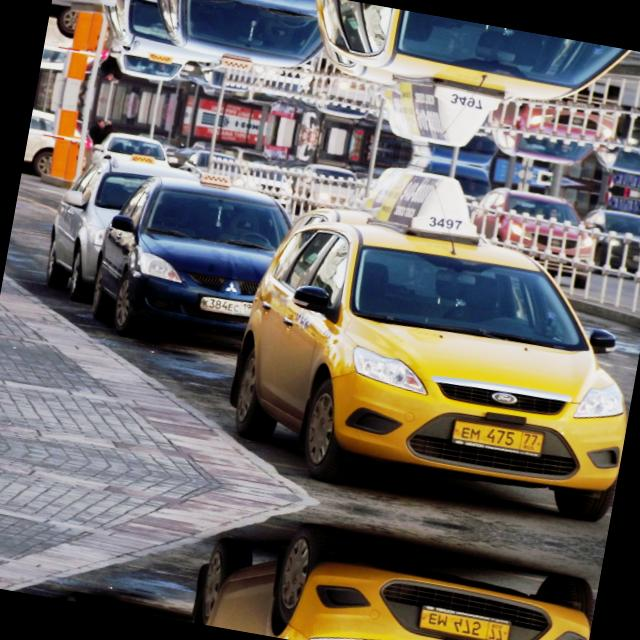citizen: (192, 290, 258, 322)
taxi: (444, 412, 551, 463), (411, 598, 518, 640)
